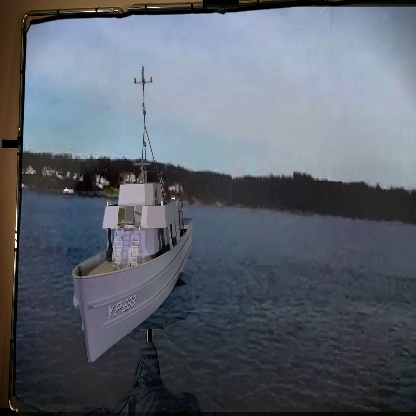YP689: (70, 63, 195, 365)
